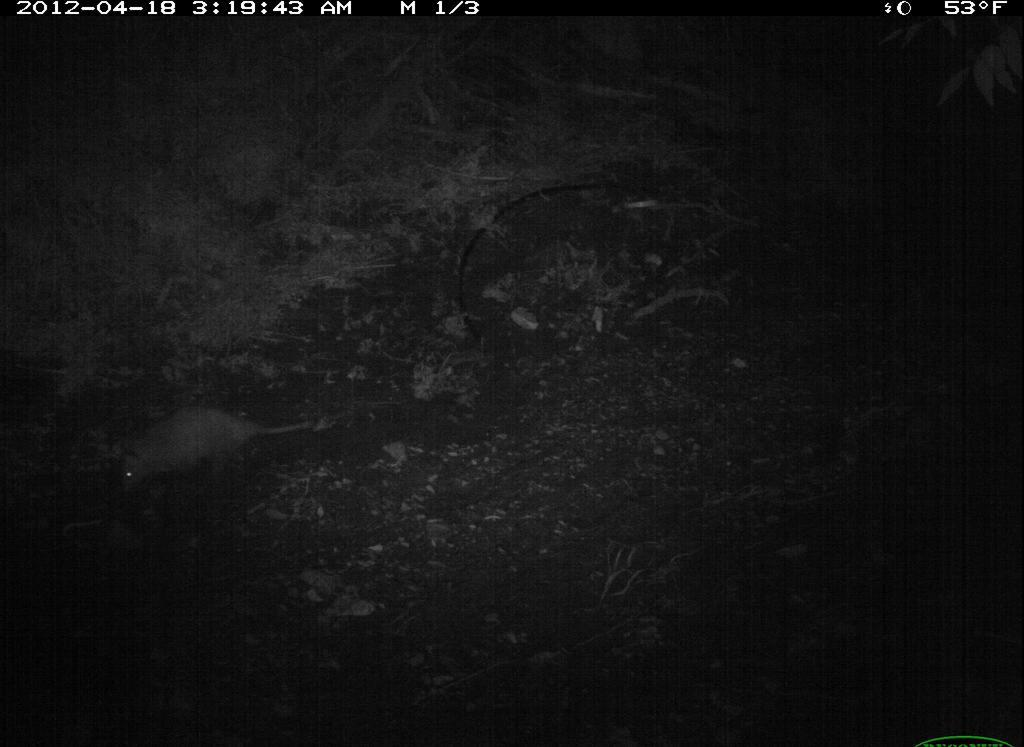opossum: (107, 399, 326, 505)
